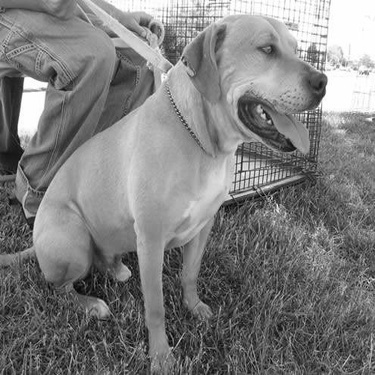dog: (1, 12, 332, 373)
